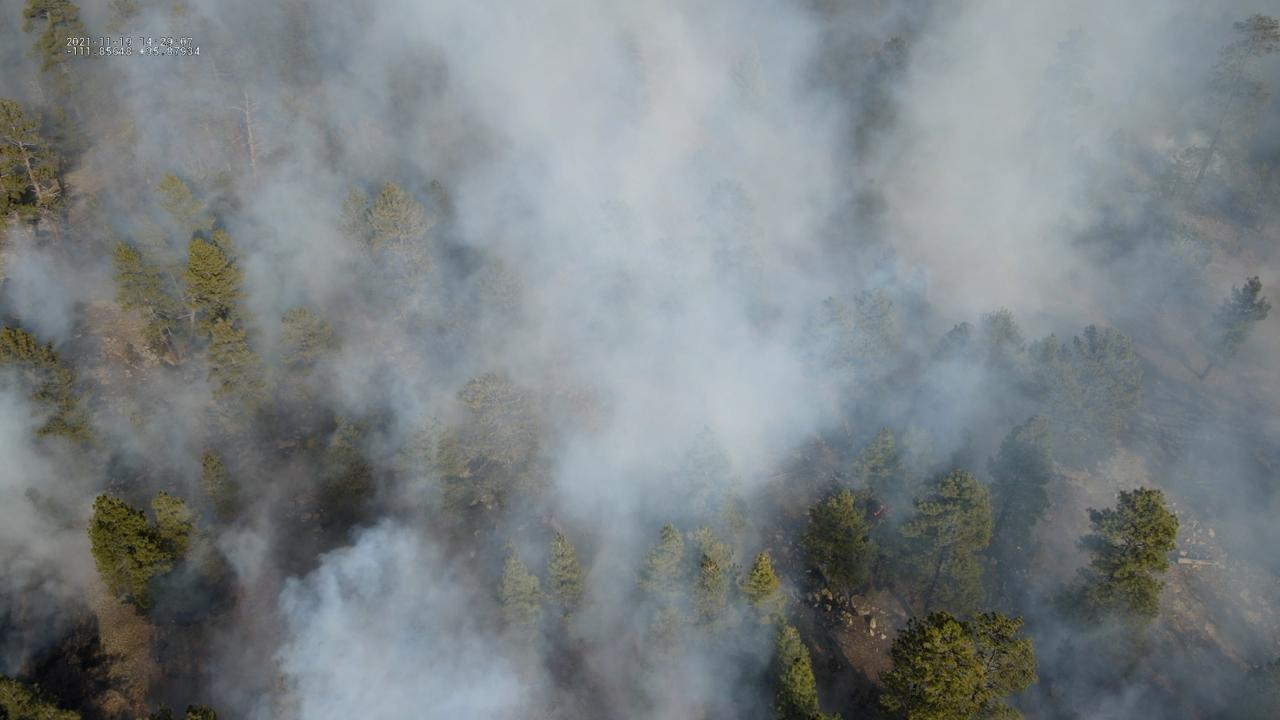fire: (872, 503, 886, 517)
smoke: (0, 0, 1280, 720)
